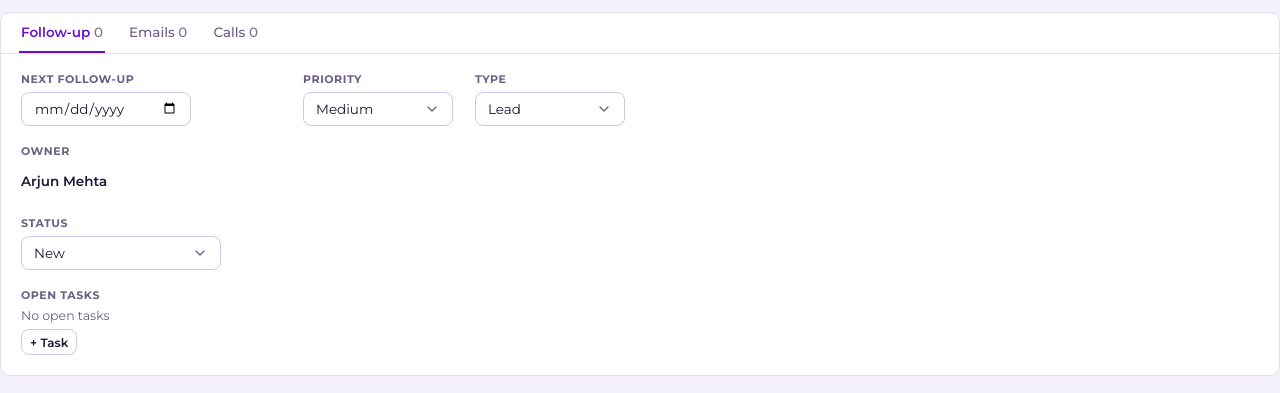
it: FollowUpPanel › Emails tab shows the prototype empty state
Click the tab "Emails 0" at (158, 33), box [127,13,189,53]
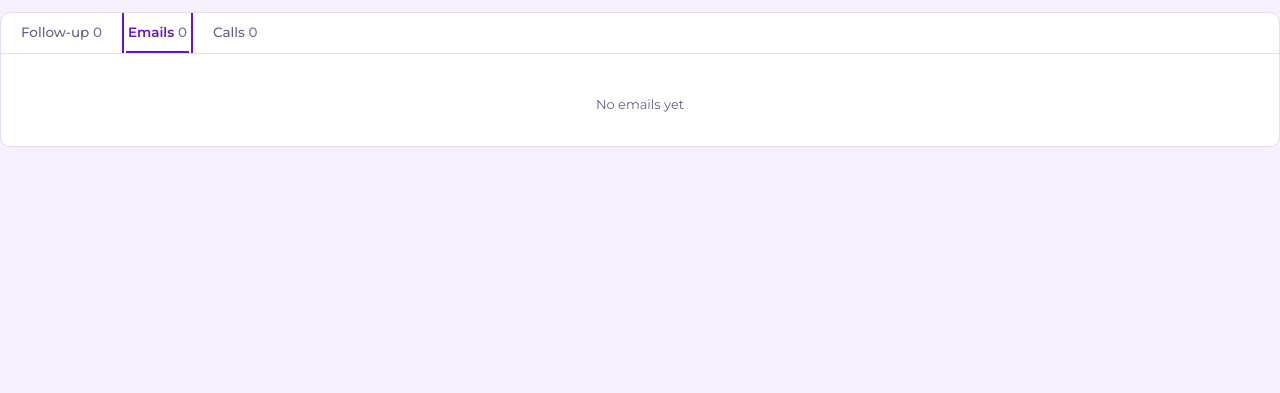
Expected: the text "No emails yet" is shown, [596,96,684,112]
Expected: no buttons are shown
